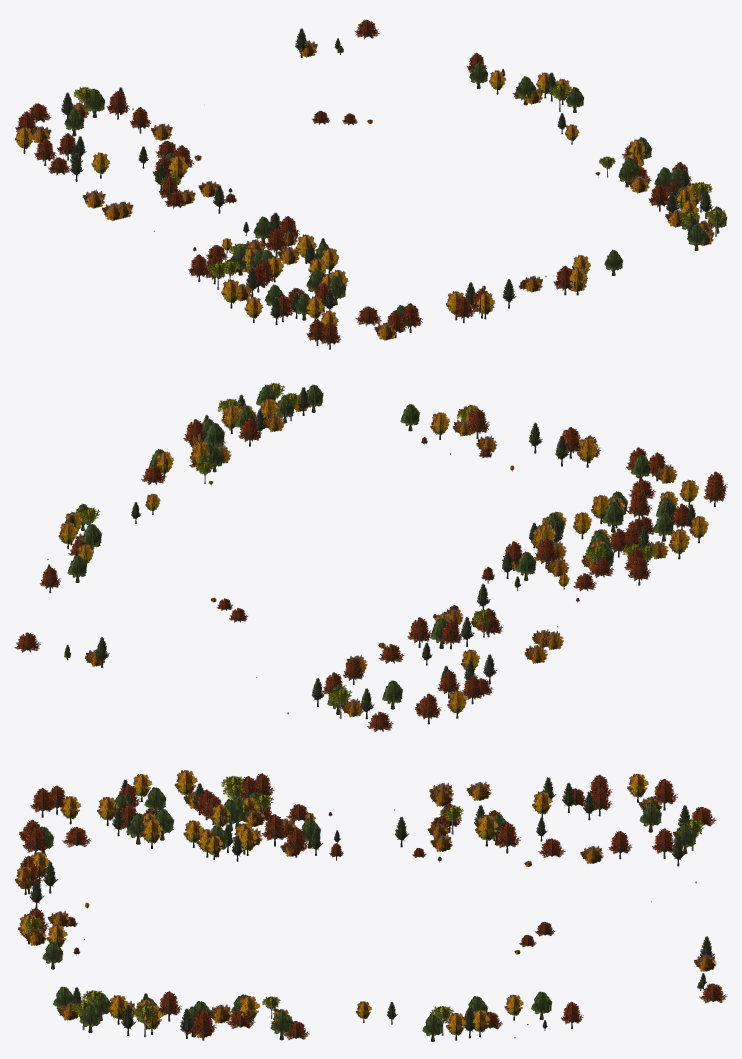
Rendered from FinalTreeMap.glb.
3 renders of one model, top to bottom at view 1: azimuth 30°, elevation 25°; view 2: azimuth 150°, elevation 25°; view 3: azimuth 270°, elevation 25°, orthographic. The views are drawn at different scales.
Parts seen in each view (by area): view 1: no part large enough to name; view 2: no part large enough to name; view 3: tree28.015, tree28.017, tree28.019, tree28.031, tree32.012.
Part boxes in pixels (x1,y1,x2,y2): tree28.015: (261,814,288,846); tree28.017: (494,822,520,853); tree28.019: (22,826,49,852); tree28.031: (190,1009,216,1040); tree32.012: (475,814,498,846).
Bounding box in the file's own units: 208 × 16.53 × 250.
7 materials, 7 textured.
